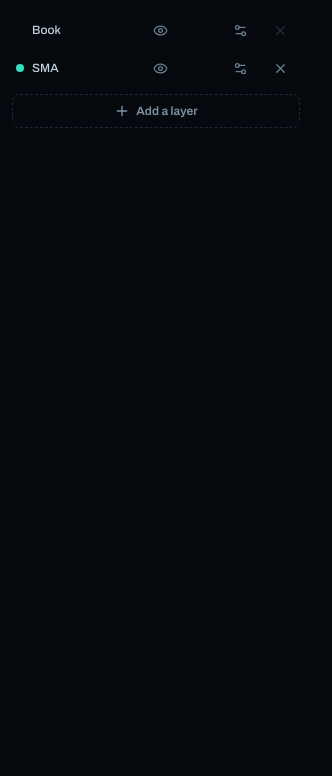
Test: LayerPanel › offers them once, not once per layer on the chart
This screenshot has width=332, height=776.
What coordinates should you click on to do the following:
click the button named " settings"
I would click on:
 (240, 30)
Its box is [224, 14, 256, 46].
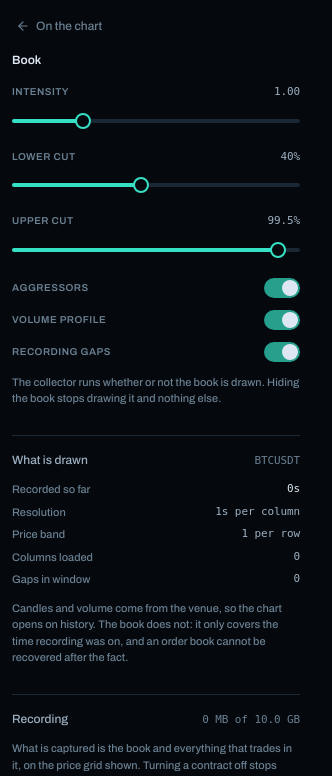
Expected: the text "The collector runs whether or not" is shown once, [12, 374, 300, 406]
